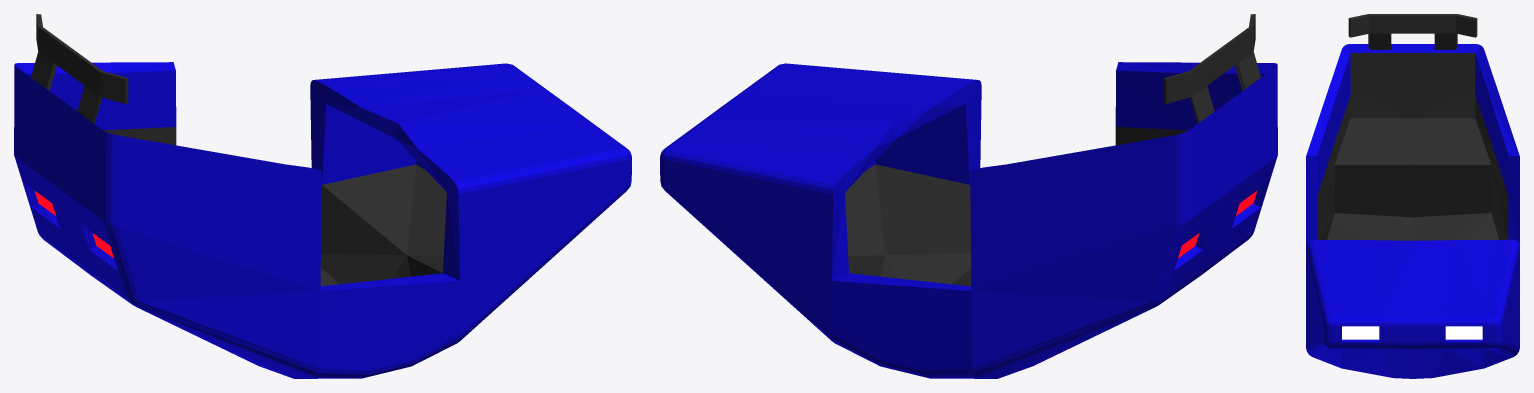
Rendered from breakdancegondel3.glb.
The picture shows the model from 3 angles, left to right: view 1: azimuth 30°, elevation 25°; view 2: azimuth 150°, elevation 25°; view 3: azimuth 270°, elevation 25°; orthographic projection. The views are drawn at different scales.
Parts seen in each view (by area): view 1: Cube; view 2: Cube; view 3: Cube.
Part boxes in pixels (bbox=[...]): Cube: bbox=[14, 14, 631, 378]; Cube: bbox=[660, 14, 1277, 378]; Cube: bbox=[1306, 14, 1519, 378].
Bounding box in the file's own units: 3.46 × 2.25 × 1.73.
